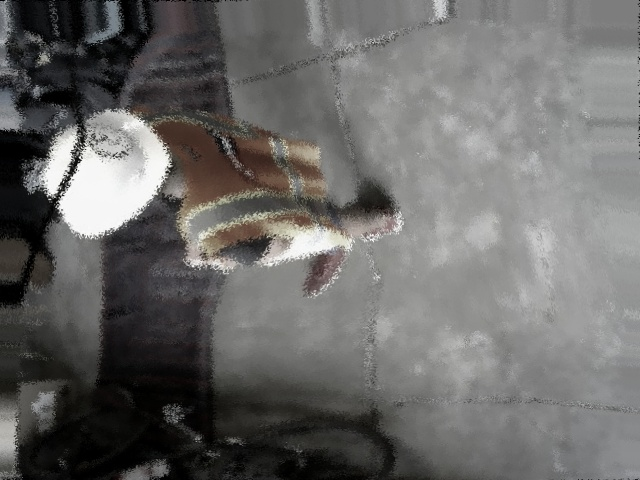three: (78, 123, 135, 158)
